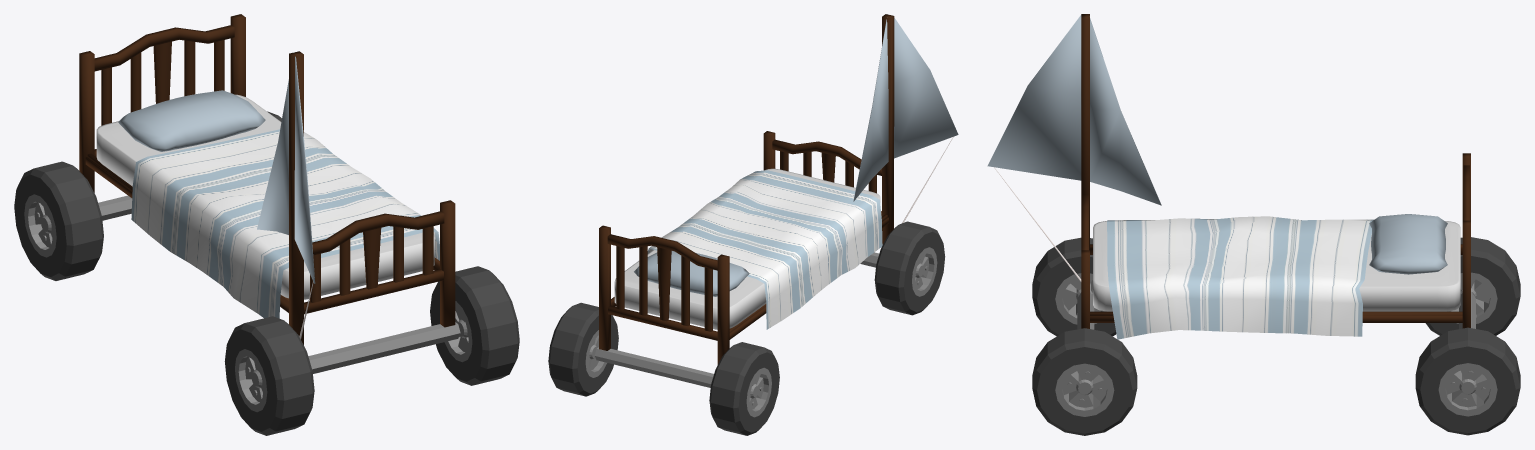
The model's file is krevet_pesak.fbx.
The picture shows the model from 3 angles, left to right: view 1: azimuth 30°, elevation 25°; view 2: azimuth 150°, elevation 25°; view 3: azimuth 270°, elevation 25°; orthographic projection. The views are drawn at different scales.
Visible parts, largest first — view 1: bed01_two_old_beds.005, FR, boat-sail.001; view 2: bed01_two_old_beds.005, FR, boat-sail.001; view 3: bed01_two_old_beds.005, FR, boat-sail.001.
Boxes of the visible parts, x1,y1,x2,y2 form: bed01_two_old_beds.005: (79,14,455,344); FR: (14,111,519,435); boat-sail.001: (257,52,315,283); bed01_two_old_beds.005: (599,14,894,364); FR: (548,221,945,435); boat-sail.001: (853,18,958,201); bed01_two_old_beds.005: (1081,14,1470,339); FR: (1032,237,1520,435); boat-sail.001: (987,15,1161,205).
Size of the model in its own units: 299 by 433 by 626.
8 materials, 1 textured.
